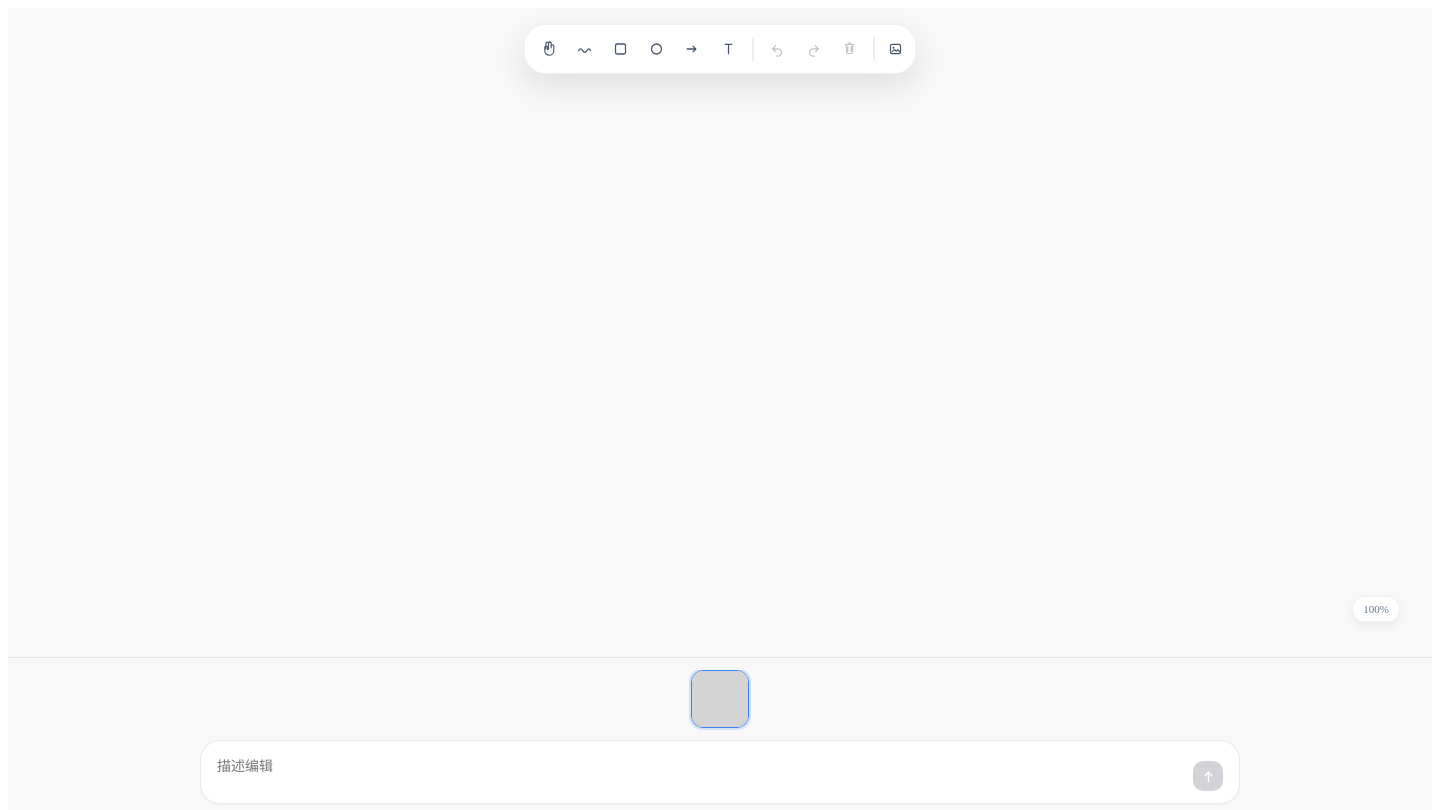
AnnotationStage › renders the active style panel inside the toolbar anchor so it keeps a fixed left alignment
Click the button named "Text" at point(728, 49), box [712,33,744,65]
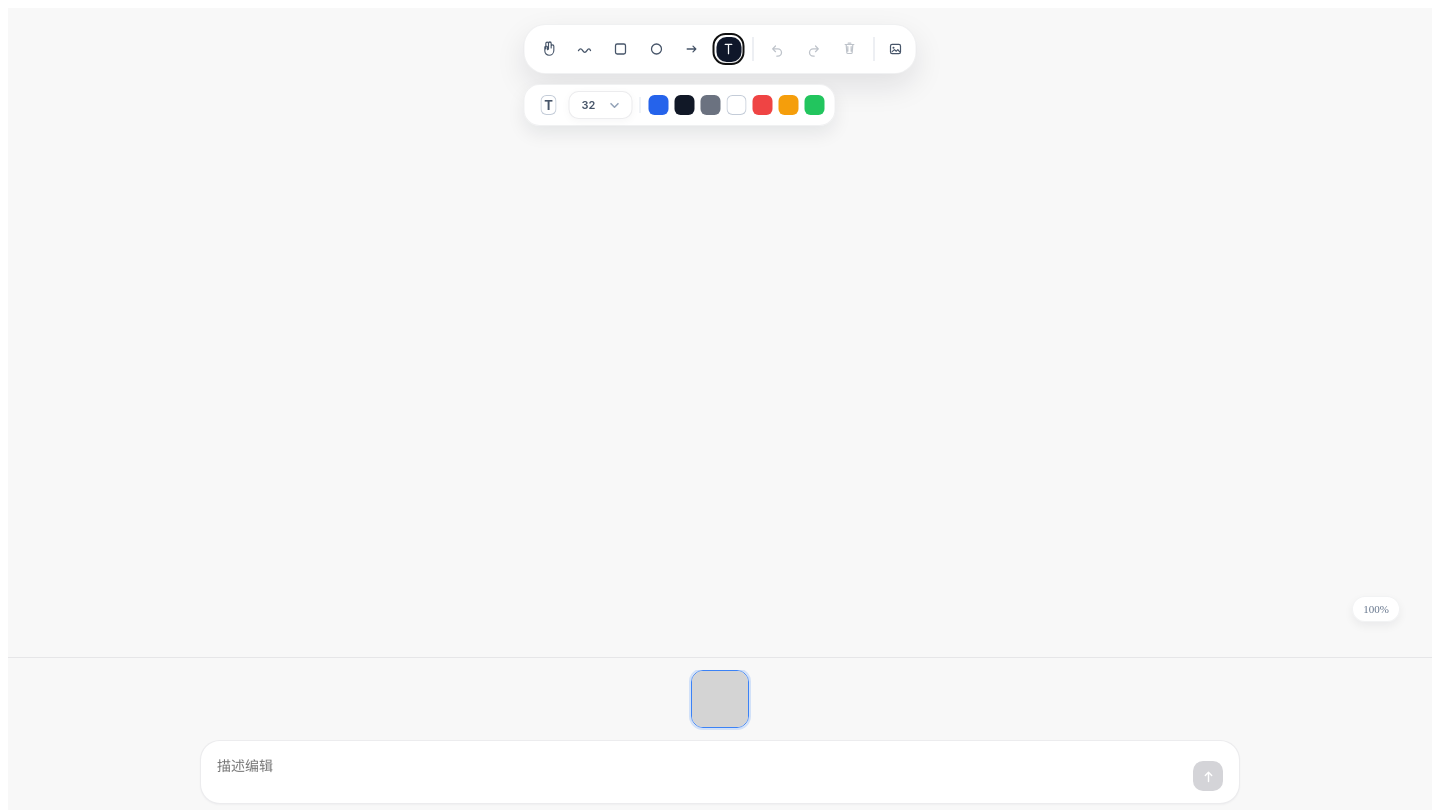
Expected: the element with class "canvagent-workspace-toolbar-anchor" is shown, [524,24,916,74]
Result: the element with class "canvagent-stage-style-panel-anchor" is shown at [524,84,836,126]
